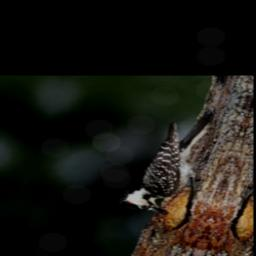Woodpecker: (111, 102, 228, 220)
